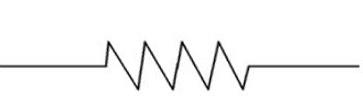resistor: (91, 31, 266, 100)
